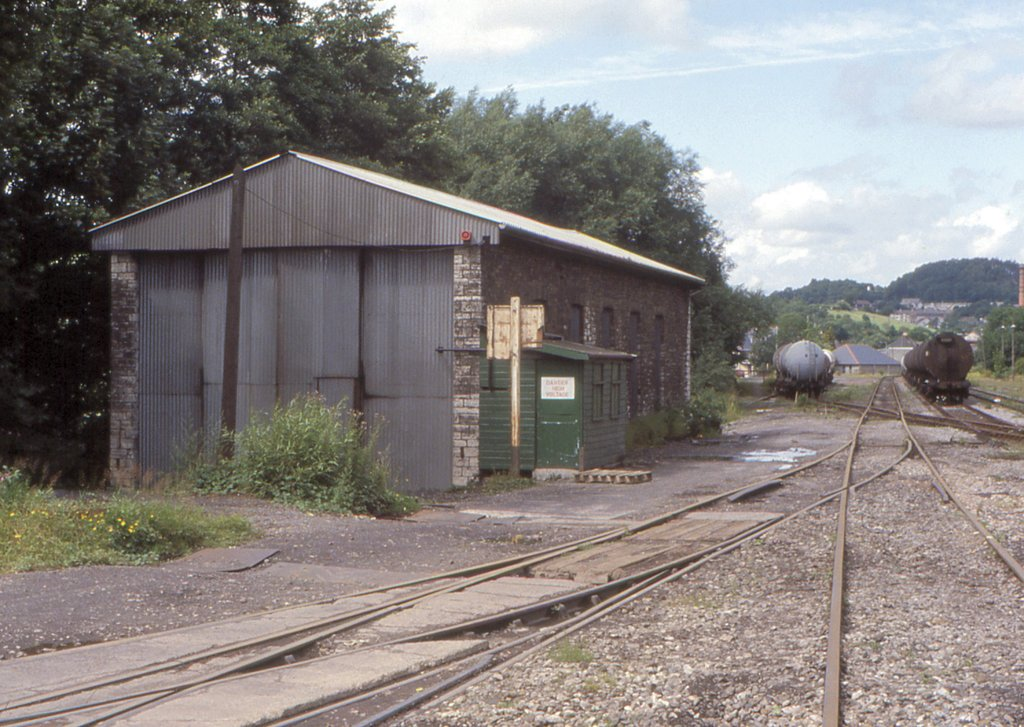train: (902, 328, 972, 399), (771, 336, 830, 398)
